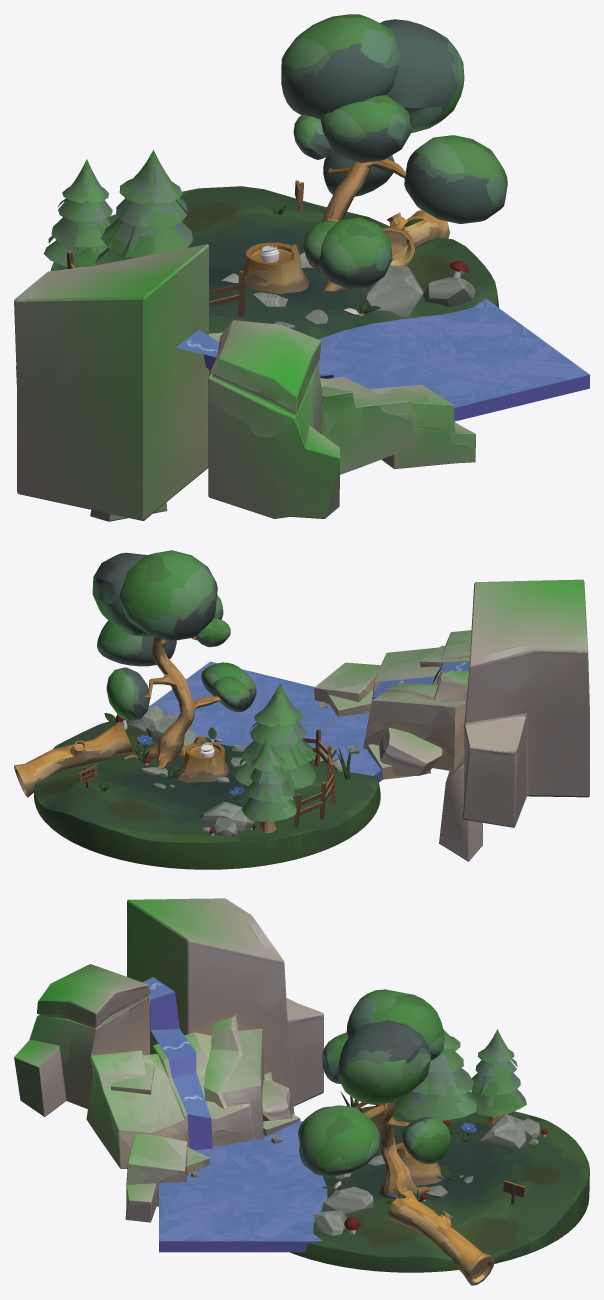
3 renders of one model, top to bottom at view 1: azimuth 30°, elevation 25°; view 2: azimuth 150°, elevation 25°; view 3: azimuth 270°, elevation 25°, orthographic. The views are drawn at different scales.
Visible parts, largest first — view 1: Cube.016, Cube.018, Plane.003, Plane.002, leaf1, leaf3, Cube.015, leaf2, Cube.014, leaf9, leaf5, Circle (+15 smaller); view 2: Cube.016, Plane.002, Plane.003, leaf1, Cube.013, Cylinder.020, Plane.077, Cube.021, Cube.015, leaf2, Cube.006, leaf3 (+20 smaller); view 3: Plane.002, Cube.016, Plane.003, Cube.018, Cube.015, leaf2, Cube.013, leaf3, Plane.006, Cube.014, Cylinder.020, leaf1 (+16 smaller).
Boxes of the visible parts, left/top/right/bottom form: Cube.016: left=14, top=244, right=208, bottom=520; Cube.018: left=208, top=320, right=340, bottom=518; Plane.003: left=318, top=298, right=589, bottom=421; Plane.002: left=50, top=186, right=499, bottom=339; leaf1: left=281, top=14, right=401, bottom=119; leaf3: left=404, top=135, right=507, bottom=223; Cube.015: left=209, top=370, right=415, bottom=474; leaf2: left=380, top=19, right=464, bottom=132; Cube.014: left=369, top=384, right=475, bottom=469; leaf9: left=320, top=95, right=411, bottom=162; leaf5: left=318, top=217, right=392, bottom=289; Circle: left=242, top=242, right=308, bottom=293; Cube.016: left=462, top=579, right=589, bottom=827; Plane.002: left=34, top=719, right=380, bottom=869; Plane.003: left=149, top=661, right=382, bottom=782; leaf1: left=118, top=550, right=217, bottom=640; Cube.013: left=363, top=670, right=468, bottom=771; Cylinder.020: left=14, top=722, right=132, bottom=797; Plane.077: left=124, top=636, right=221, bottom=769; Cube.021: left=439, top=752, right=482, bottom=861; Cube.015: left=372, top=630, right=471, bottom=695; leaf2: left=92, top=552, right=153, bottom=637; Cube.006: left=379, top=727, right=442, bottom=776; leaf3: left=97, top=620, right=176, bottom=666; Plane.002: left=290, top=1106, right=589, bottom=1272; Cube.016: left=127, top=898, right=323, bottom=1106; Plane.003: left=159, top=1121, right=327, bottom=1252; Cube.018: left=14, top=964, right=150, bottom=1116; Cube.015: left=86, top=1032, right=251, bottom=1168; leaf2: left=337, top=1020, right=431, bottom=1104; Cube.013: left=204, top=1015, right=264, bottom=1139; leaf3: left=299, top=1105, right=380, bottom=1176; Plane.006: left=142, top=977, right=212, bottom=1150; Cube.014: left=125, top=1134, right=187, bottom=1222; Cylinder.020: left=388, top=1190, right=494, bottom=1285; leaf1: left=346, top=989, right=444, bottom=1060.
Bounding box in the file's own units: 29579 × 17602 × 31698.
